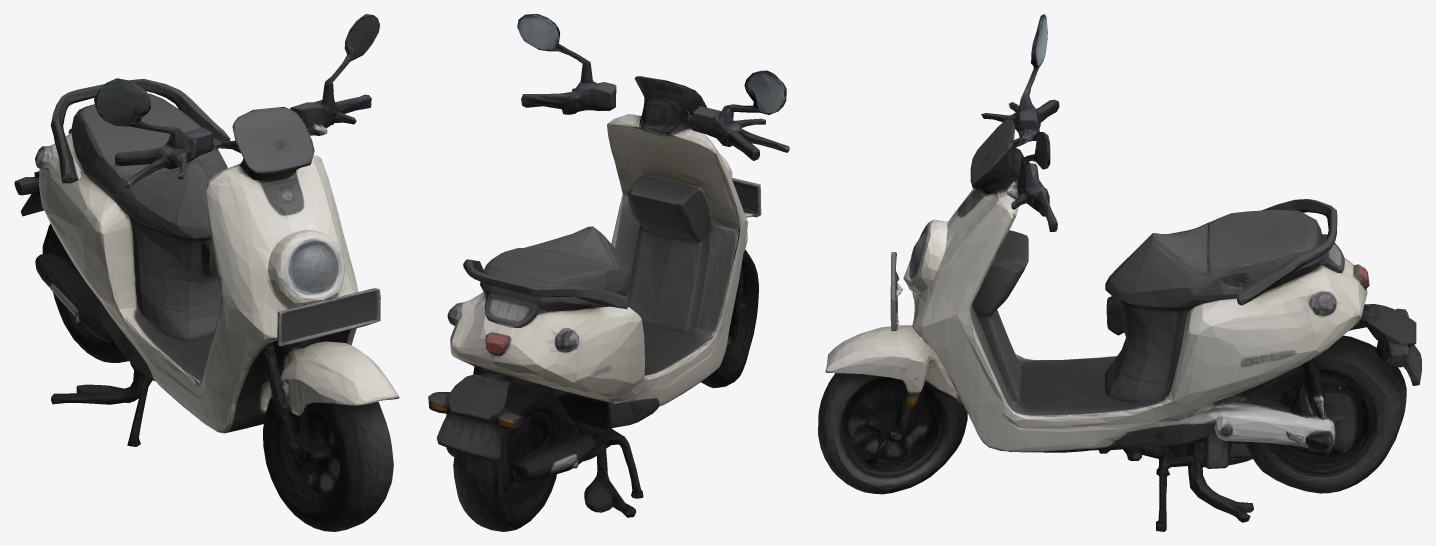
3 views of the same model, side by side, from view 1: azimuth 30°, elevation 25°; view 2: azimuth 150°, elevation 25°; view 3: azimuth 270°, elevation 25° (orthographic). The views are drawn at different scales.
Visible parts, largest first — view 1: world; view 2: world; view 3: world.
Part boxes in pixels (x1,y1,x2,y2): world: (14,14,399,531); world: (428,14,789,531); world: (818,14,1421,531).
Bounding box in the file's own units: 0.534 × 0.7698 × 0.997.
Materials: 1 (1 with a texture image).
